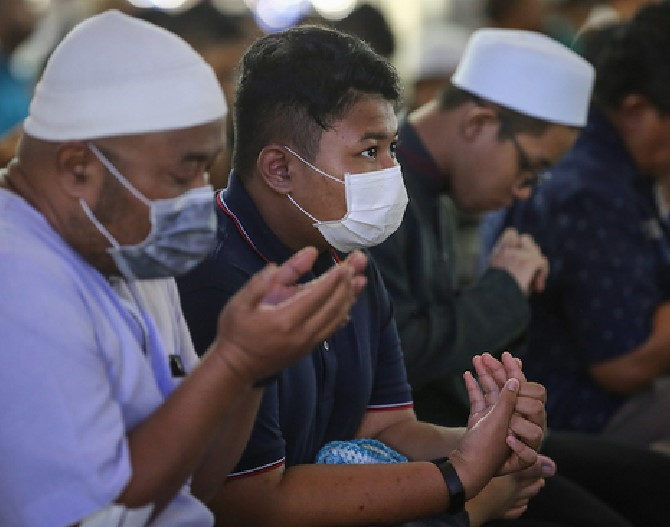face_no_mask: (441, 34, 582, 234)
face_with_mask: (51, 37, 231, 286), (250, 28, 410, 264)
